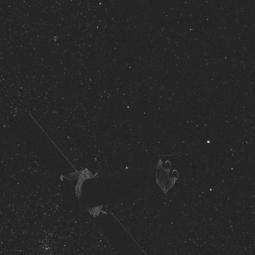xmm_newton: (44, 140, 190, 236)
